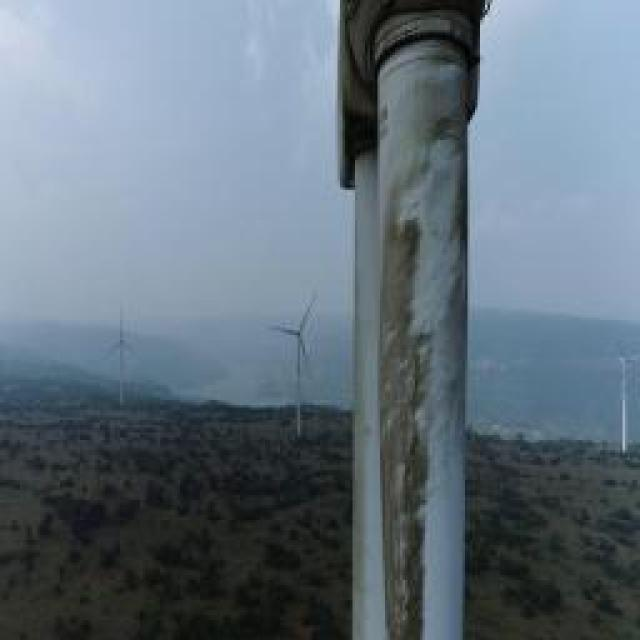Dirt: (369, 50, 480, 640)
